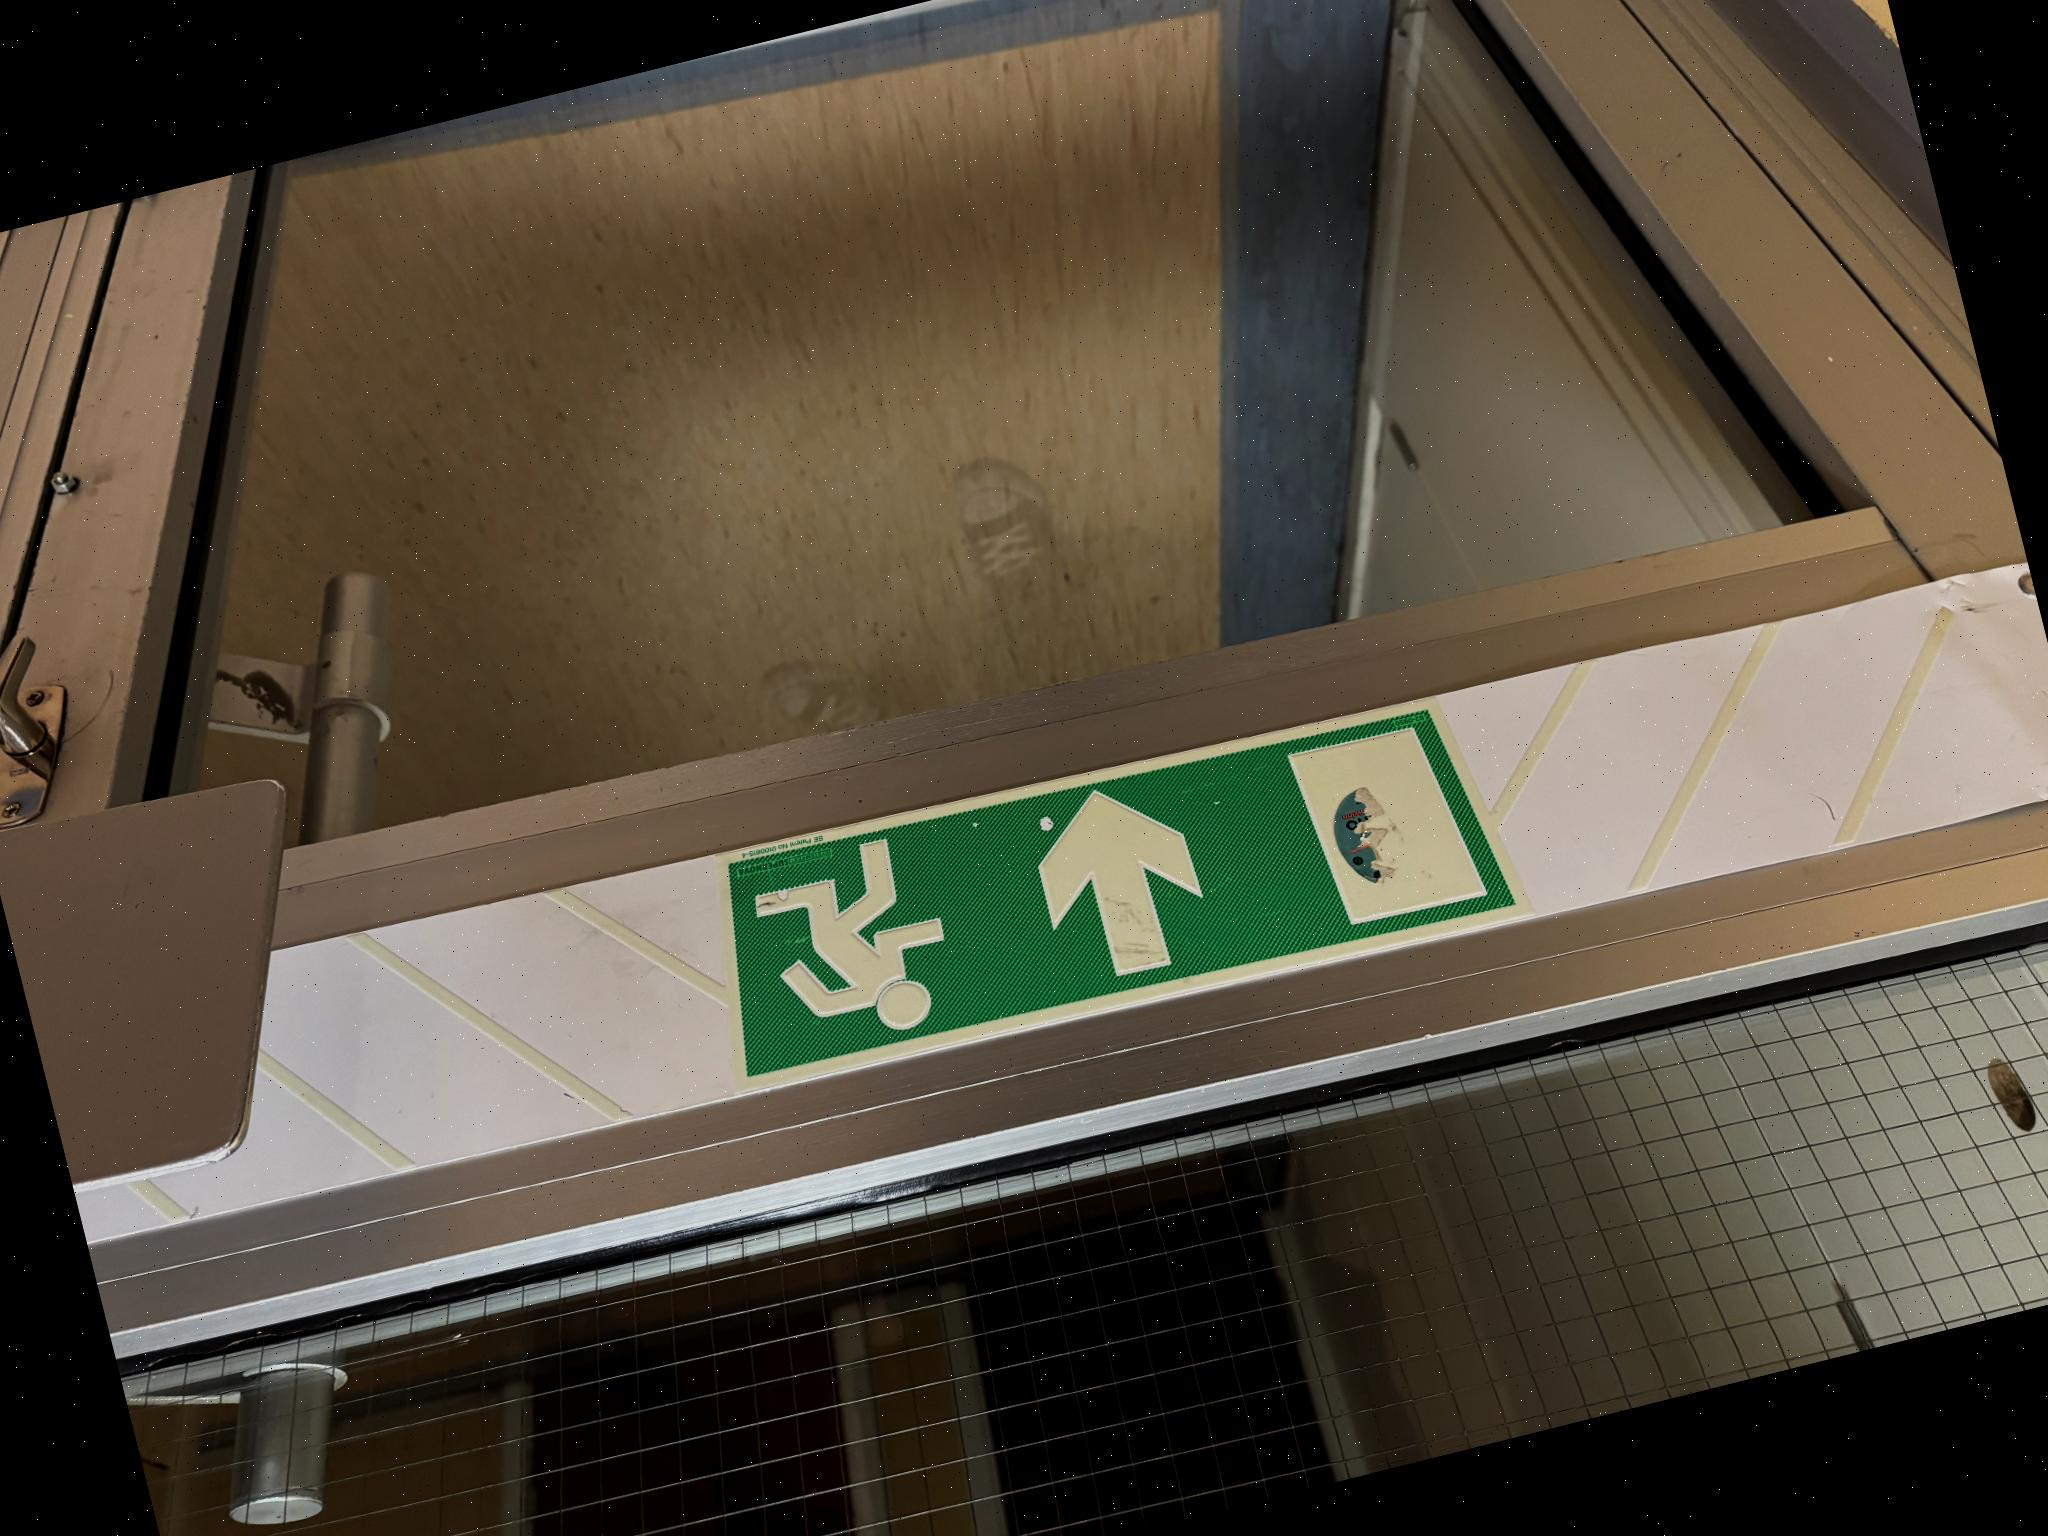exit_sign: (713, 681, 1521, 1086)
